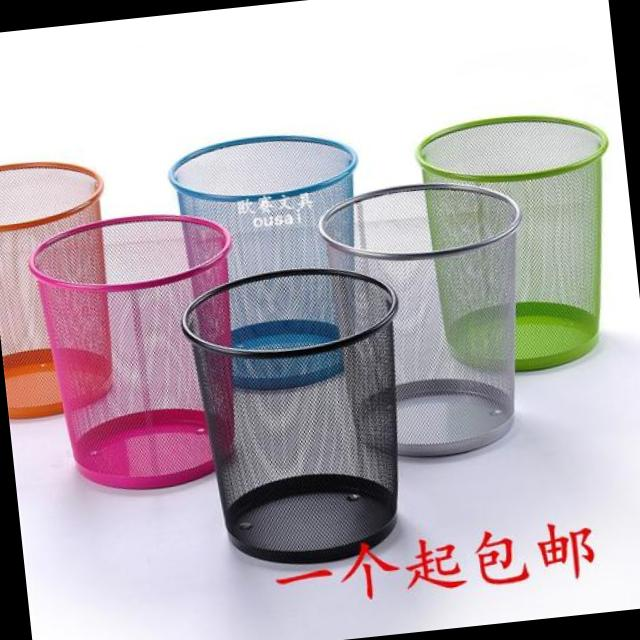dustbin: (182, 256, 421, 580), (311, 168, 548, 474), (27, 202, 260, 504), (411, 101, 634, 383), (0, 148, 130, 423)
